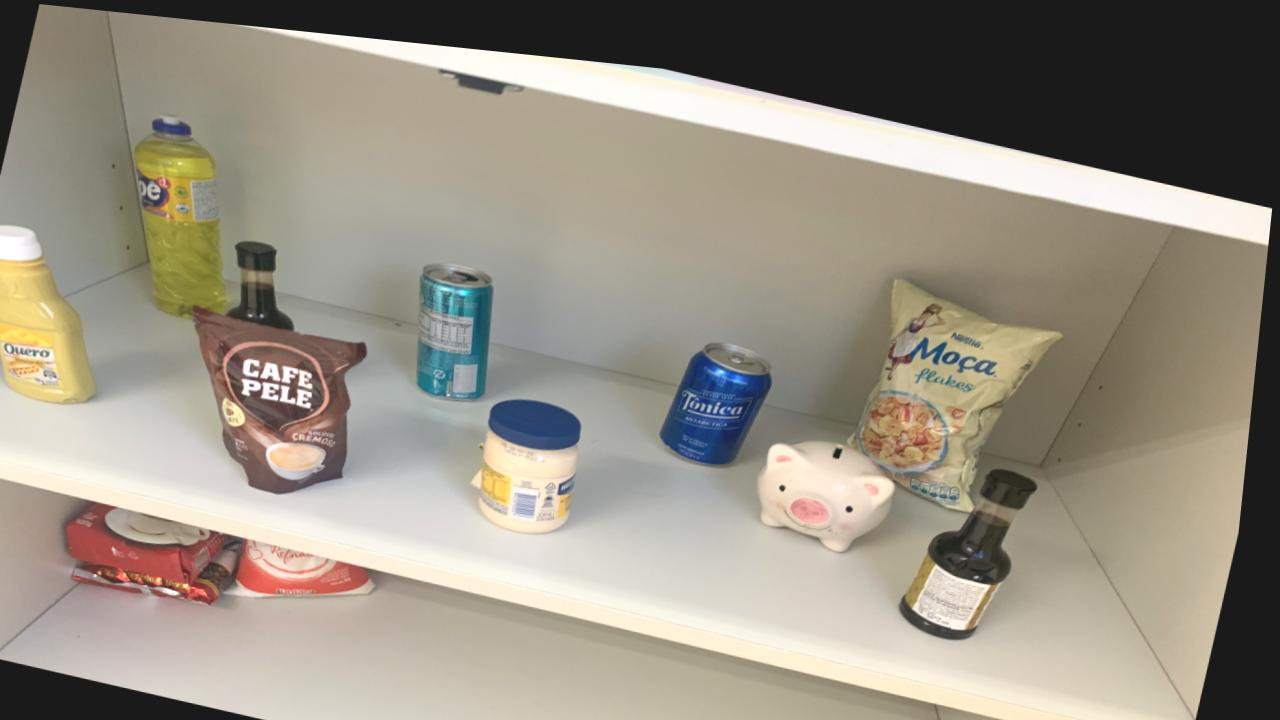Coffee-Pantry_Items: (198, 301, 374, 487)
Detergent-Cleanup_Items: (136, 112, 233, 313)
English_Sauce-Pantry_Items: (910, 447, 1045, 618), (233, 235, 300, 324)
Flakes-Snacks: (855, 259, 1067, 490)
Mayonnaise-Pantry_Items: (481, 387, 589, 521)
Mustard-Pantry_Items: (0, 224, 105, 401)
Pig_Safe-Miscellaneous: (766, 422, 904, 533)
Tea-Drinks: (423, 253, 499, 390)
Tonic-Drinks: (668, 326, 778, 449)
